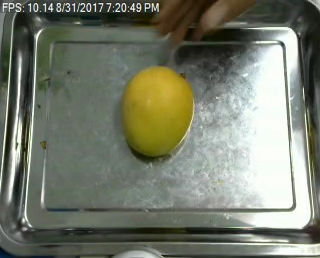Mango: (122, 65, 193, 154)
